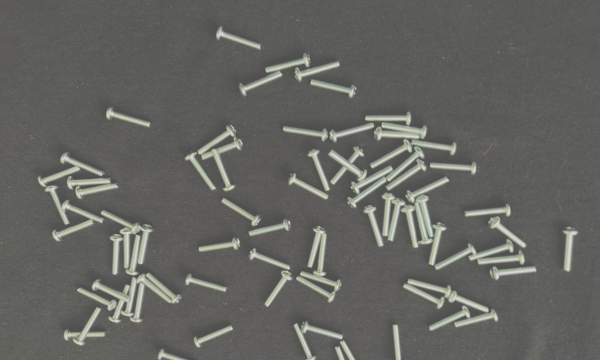longscrew: (329, 145, 366, 187), (385, 160, 428, 194), (184, 150, 217, 194), (434, 241, 479, 273), (369, 138, 414, 170), (386, 147, 426, 183), (346, 178, 389, 211), (488, 216, 529, 250), (349, 166, 394, 196), (404, 177, 451, 205), (60, 150, 107, 178), (196, 125, 237, 157), (426, 306, 472, 334), (328, 150, 368, 182), (263, 51, 314, 76), (73, 306, 103, 348), (216, 26, 264, 52), (287, 173, 330, 202), (238, 71, 284, 98), (295, 276, 339, 304), (221, 198, 263, 227), (145, 272, 183, 304), (402, 283, 447, 310), (105, 105, 153, 130), (136, 274, 174, 305), (293, 59, 342, 83), (199, 136, 244, 162), (61, 198, 106, 224), (307, 147, 332, 193), (43, 185, 71, 226), (211, 149, 237, 193), (100, 209, 144, 235), (263, 271, 293, 309), (193, 323, 235, 350), (467, 240, 515, 263), (328, 121, 376, 144), (248, 248, 292, 273), (75, 287, 117, 313), (453, 308, 499, 331), (448, 291, 492, 315), (427, 220, 449, 268), (51, 219, 95, 243), (362, 204, 385, 249), (305, 224, 327, 271), (309, 78, 358, 99), (38, 165, 82, 188), (92, 279, 132, 304), (248, 217, 293, 239), (292, 322, 318, 360), (488, 263, 537, 283), (560, 225, 580, 274), (301, 320, 345, 342), (407, 278, 453, 299), (386, 198, 407, 243), (413, 201, 434, 246), (415, 195, 436, 240), (108, 283, 131, 324), (299, 271, 343, 292), (476, 249, 527, 267), (463, 201, 513, 219), (401, 205, 421, 250), (411, 139, 460, 157), (281, 124, 330, 142), (184, 273, 228, 293), (197, 236, 242, 255), (75, 182, 120, 201), (380, 123, 429, 140), (312, 232, 330, 278), (62, 325, 107, 343), (125, 233, 143, 278), (429, 160, 479, 176), (364, 110, 414, 126), (137, 223, 155, 267), (373, 127, 422, 143), (380, 191, 396, 239), (66, 175, 112, 191), (129, 282, 146, 325), (121, 278, 139, 318), (119, 228, 135, 270), (390, 323, 408, 360), (109, 233, 124, 277), (340, 339, 369, 360), (157, 347, 200, 360), (334, 345, 359, 360)
